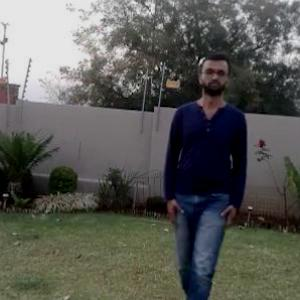follow: (163, 61, 243, 299)
